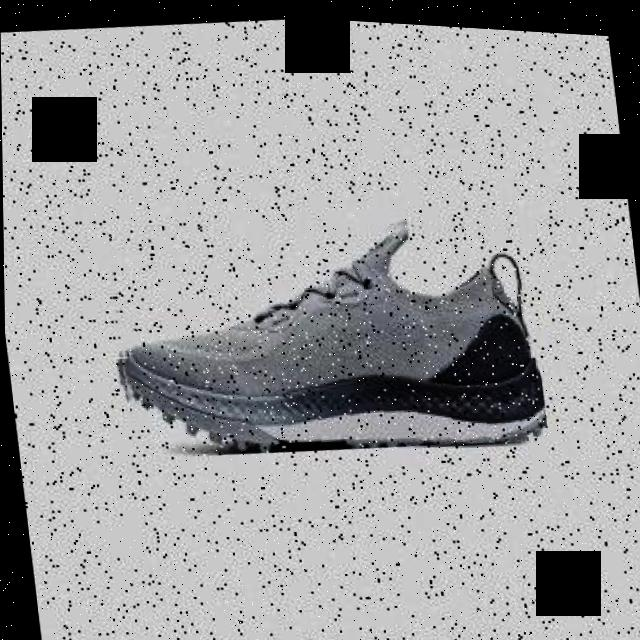shoe: (99, 183, 548, 477)
